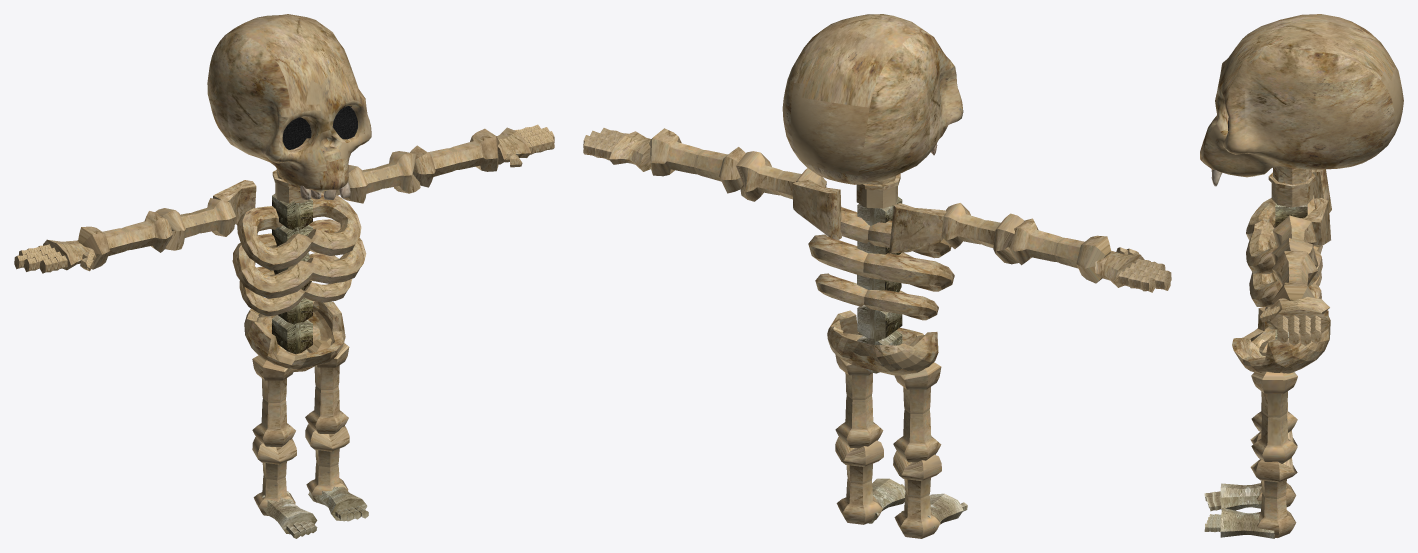
Rendered from Skelly-Basic-Final.fbx.
3 renders of one model, left to right at view 1: azimuth 30°, elevation 25°; view 2: azimuth 150°, elevation 25°; view 3: azimuth 270°, elevation 25°, orthographic. The views are drawn at different scales.
Visible parts, largest first — view 1: skull_low_poly:Group17420, pasted__polySurface22, pasted__polySurface24, pasted__polySurface77, pasted__polySurface73, pasted__polySurface74, pasted__pasted__pasted__pasted__polySurface1, pasted__pasted__pasted__pasted__pasted__polySurface1, polySurface1, polySurface2, pasted__polySurface32, pasted__pasted__pasted__polySurface2 (+10 smaller); view 2: skull_low_poly:Group17420, pasted__polySurface77, pasted__polySurface24, pasted__polySurface74, pasted__polySurface73, pasted__pasted__pasted__pasted__polySurface1, pasted__pasted__polySurface2, pasted__pasted__pasted__polySurface2, pasted__polySurface32, pasted__pasted__pasted__pasted__pasted__polySurface1, polySurface2, polySurface1 (+9 smaller); view 3: skull_low_poly:Group17420, pasted__polySurface77, pasted__pasted__pasted__pasted__pasted__polySurface1, pasted__pasted__pasted__polySurface2, pasted__polySurface22, pasted__polySurface73, pasted__pCylinder5, polySurface1, pasted__polySurface11, pasted__polySurface24, pasted__pasted__polySurface11, pasted__pasted__pasted__polySurface11 (+6 smaller).
Boxes of the visible parts, left/top/right/bottom form: skull_low_poly:Group17420: left=207, top=14, right=371, bottom=192; pasted__polySurface22: left=237, top=192, right=361, bottom=270; pasted__polySurface24: left=232, top=219, right=366, bottom=298; pasted__polySurface77: left=244, top=301, right=345, bottom=371; pasted__polySurface73: left=410, top=128, right=499, bottom=187; pasted__polySurface74: left=78, top=211, right=172, bottom=269; pasted__pasted__pasted__pasted__polySurface1: left=252, top=349, right=295, bottom=446; pasted__pasted__pasted__pasted__pasted__polySurface1: left=305, top=338, right=349, bottom=433; polySurface1: left=343, top=151, right=420, bottom=203; polySurface2: left=155, top=198, right=235, bottom=250; pasted__polySurface32: left=239, top=253, right=352, bottom=316; pasted__pasted__pasted__polySurface2: left=305, top=424, right=349, bottom=502; skull_low_poly:Group17420: left=782, top=14, right=963, bottom=184; pasted__polySurface77: left=827, top=310, right=938, bottom=375; pasted__polySurface24: left=808, top=234, right=954, bottom=291; pasted__polySurface74: left=1007, top=218, right=1110, bottom=283; pasted__polySurface73: left=649, top=128, right=745, bottom=193; pasted__pasted__pasted__pasted__polySurface1: left=893, top=362, right=941, bottom=462; pasted__pasted__polySurface2: left=893, top=451, right=941, bottom=538; pasted__pasted__pasted__polySurface2: left=835, top=437, right=883, bottom=524; pasted__polySurface32: left=815, top=273, right=938, bottom=320; pasted__pasted__pasted__pasted__pasted__polySurface1: left=835, top=354, right=883, bottom=448; polySurface2: left=942, top=203, right=1023, bottom=264; polySurface1: left=736, top=151, right=826, bottom=201; skull_low_poly:Group17420: left=1200, top=14, right=1403, bottom=177; pasted__polySurface77: left=1232, top=307, right=1330, bottom=373; pasted__pasted__pasted__pasted__pasted__polySurface1: left=1251, top=371, right=1297, bottom=463; pasted__pasted__pasted__polySurface2: left=1250, top=457, right=1297, bottom=537; pasted__polySurface22: left=1246, top=195, right=1314, bottom=274; pasted__polySurface73: left=1271, top=251, right=1317, bottom=304; pasted__pCylinder5: left=1268, top=165, right=1315, bottom=207; polySurface1: left=1271, top=215, right=1318, bottom=267; pasted__polySurface11: left=1270, top=296, right=1329, bottom=333; pasted__polySurface24: left=1249, top=227, right=1322, bottom=306; pasted__pasted__polySurface11: left=1220, top=508, right=1274, bottom=538; pasted__pasted__pasted__polySurface11: left=1220, top=483, right=1261, bottom=510.
Size of the model in its own units: 17.42 by 14.85 by 5.47.
Materials: 9 (9 with a texture image).
